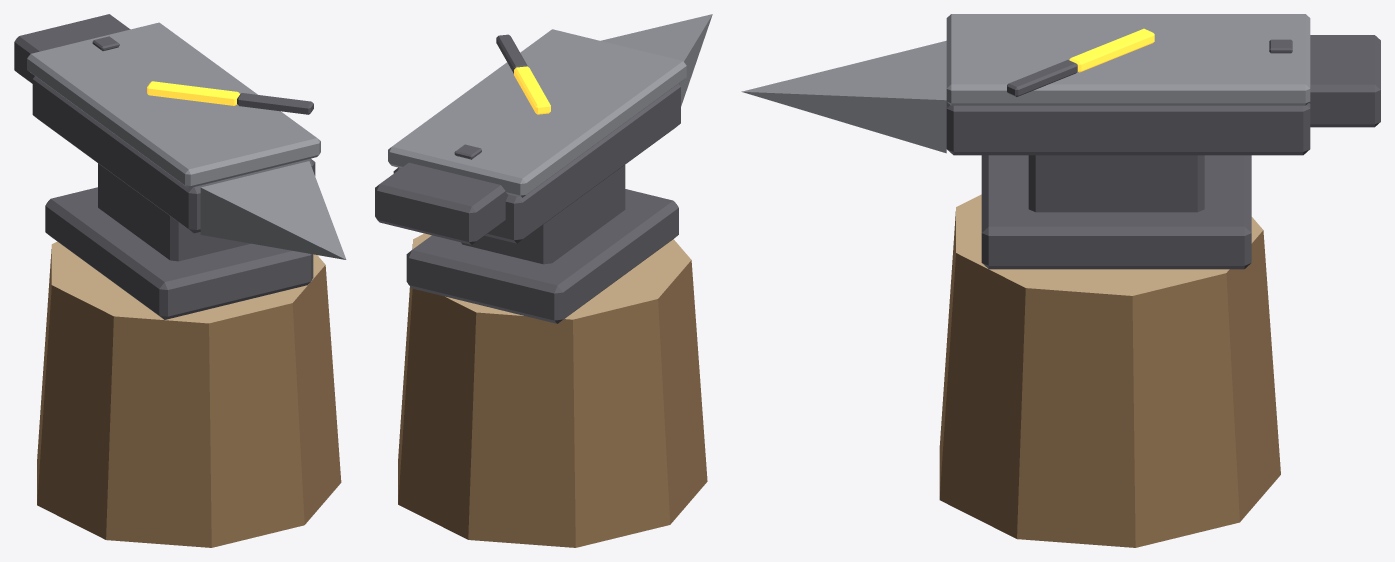
File: anvil.glb
3 renders of one model, left to right at view 1: azimuth 30°, elevation 25°; view 2: azimuth 150°, elevation 25°; view 3: azimuth 270°, elevation 25°, orthographic. The views are drawn at different scales.
Visible parts, largest first — view 1: Anvil, WorkBar; view 2: Anvil, WorkBar; view 3: Anvil, WorkBar.
Boxes of the visible parts, left/top/right/bottom form: Anvil: left=14, top=14, right=346, bottom=547; WorkBar: left=147, top=81, right=313, bottom=114; Anvil: left=375, top=14, right=712, bottom=547; WorkBar: left=496, top=34, right=550, bottom=114; Anvil: left=741, top=14, right=1380, bottom=547; WorkBar: left=1007, top=28, right=1154, bottom=96.
Bounding box in the file's own units: 0.5909 × 0.82 × 1.09.
